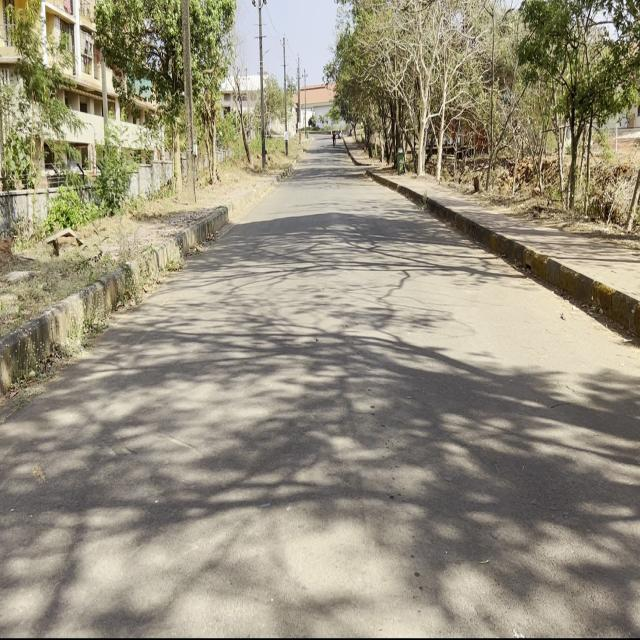Road: (5, 143, 638, 630)
